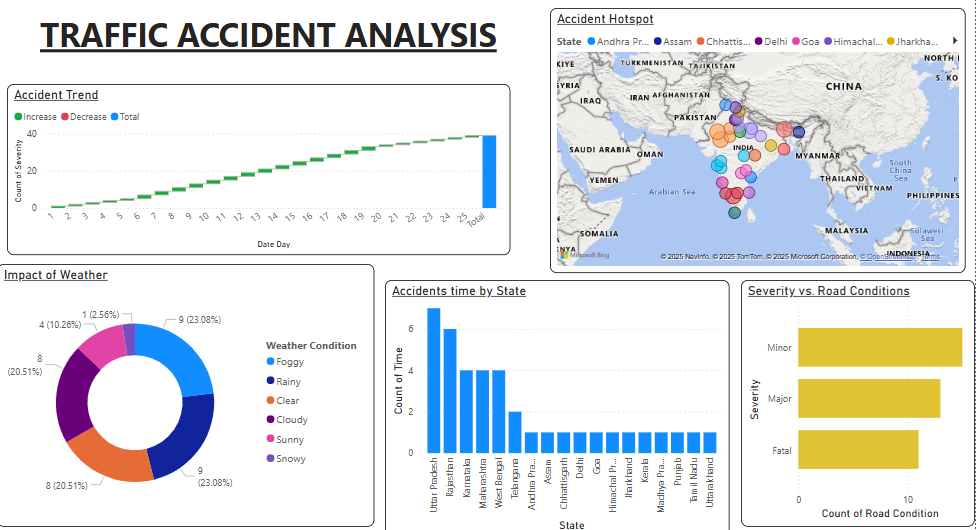

This screenshot's page, from the dashboard's own definition file:
{"tool":"powerbi","page":{"name":"Page 1","canvas":[1280,720],"ordinal":0},"visuals":[{"type":"map","title":"Accident Hotspot","fields":{"Y":["Sheet1.Latitude"],"X":["Sheet1.Longitude"],"Size":["CountNonNull(Sheet1.Accident_ID)"],"Series":["Sheet1.State"]},"box":[724.3,24.3,544.3,347.1],"z":0},{"type":"clusteredColumnChart","title":"Accidents time by State","fields":{"Y":["CountNonNull(Sheet1.Time)"],"Category":["Sheet1.State"]},"box":[508.6,381.4,451.4,338.6],"z":1000},{"type":"donutChart","title":"Impact of Weather ","fields":{"Category":["Sheet1.Weather Condition"],"Y":["CountNonNull(Sheet1.Accident_ID)"]},"box":[0,360,494.3,344.3],"z":2000},{"type":"barChart","title":"Severity vs. Road Conditions","fields":{"Y":["CountNonNull(Sheet1.Road Condition)"],"Category":["Sheet1.Severity"]},"box":[974.3,381.4,305.7,322.9],"z":3000},{"type":"waterfallChart","title":"Accident Trend","fields":{"Y":["CountNonNull(Sheet1.Severity)"],"Category":["Sheet1.Date.Variation.Date Hierarchy.Day"]},"box":[12.9,124.3,658.6,224.3],"z":4000},{"type":"textbox","box":[12.9,24.3,684.3,72.9],"z":4001}]}

Visuals, with their boxes in screenshot pixels (x1, y1, x2, y2):
"Accident Hotspot" map: [549, 8, 959, 270]
"Accidents time by State" clusteredColumnChart: [386, 278, 727, 529]
"Impact of Weather " donutChart: [3, 261, 375, 521]
"Severity vs. Road Conditions" barChart: [737, 278, 968, 521]
"Accident Trend" waterfallChart: [12, 84, 509, 253]
textbox: [12, 8, 528, 63]
